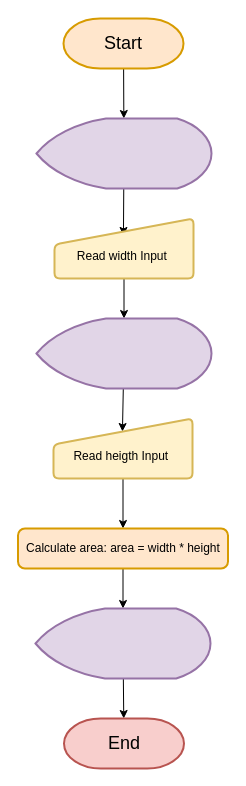
Image size: 246x786. Some labels were removed from this diagram. The box of each missing label's shape, as (x1, y1, x2, y2) in pixels:
Display massage: "Enter the height of the Rectangle": (35, 317, 212, 389)
Display massage: "Enter the width of the Rectangle": (35, 117, 212, 189)
Display massage: "The area of the Rectangle is",area: (34, 607, 211, 679)
